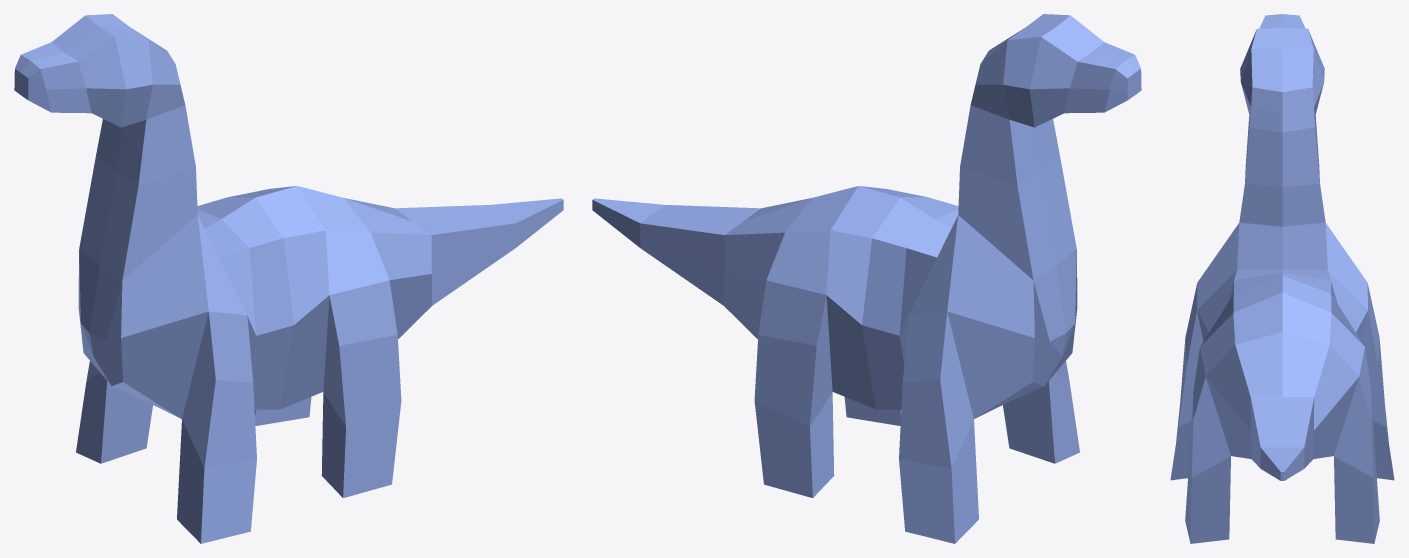
File: dinoazul.fbx
3 views of the same model, side by side, from view 1: azimuth 30°, elevation 25°; view 2: azimuth 150°, elevation 25°; view 3: azimuth 270°, elevation 25° (orthographic). The views are drawn at different scales.
Parts seen in each view (by area): view 1: Cube.010; view 2: Cube.010; view 3: Cube.010.
Boxes of the visible parts, x1,y1,x2,y2 form: Cube.010: (14,14,563,543); Cube.010: (592,14,1141,543); Cube.010: (1170,14,1394,543).
Bounding box in the file's own units: 225 × 543 × 462.
